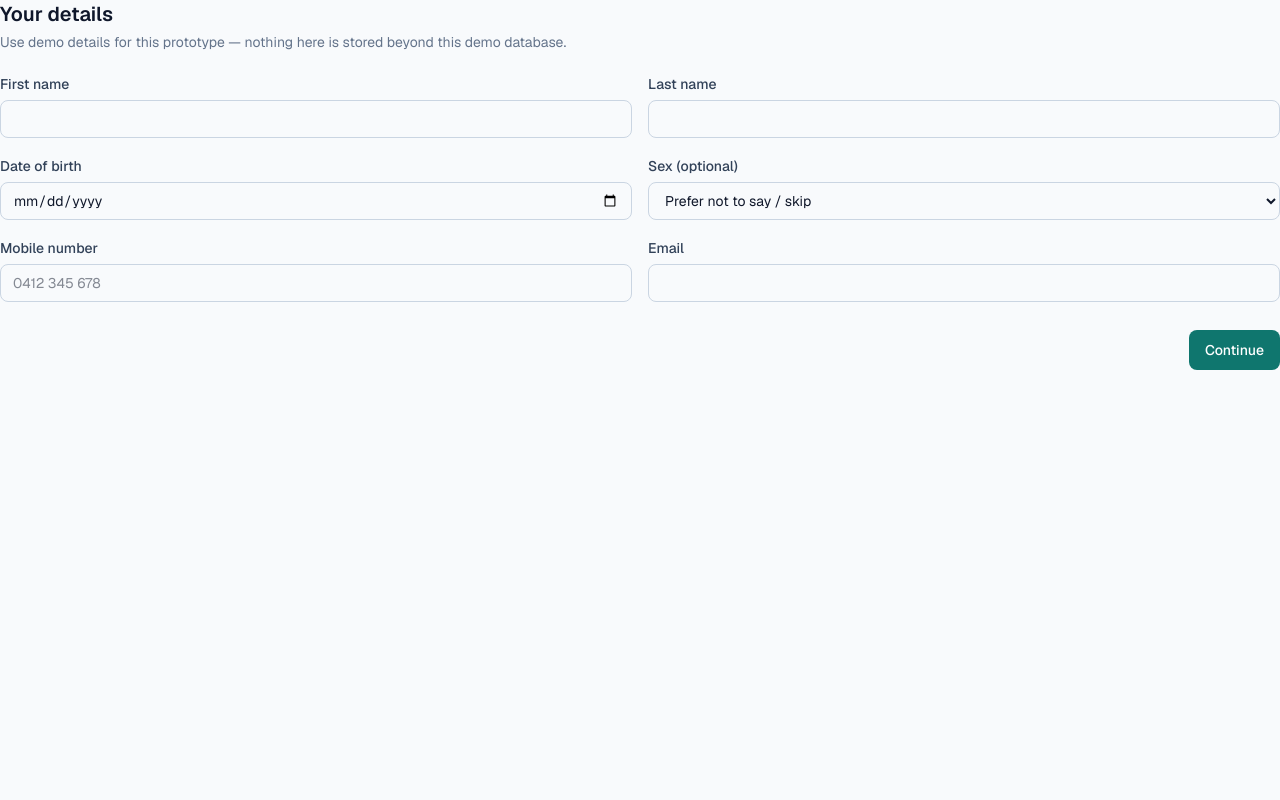
it: validation prompt › closes on 'Show me', focusing the first missing field
Click the button "Continue": (1234, 350) [1189,330,1279,370]
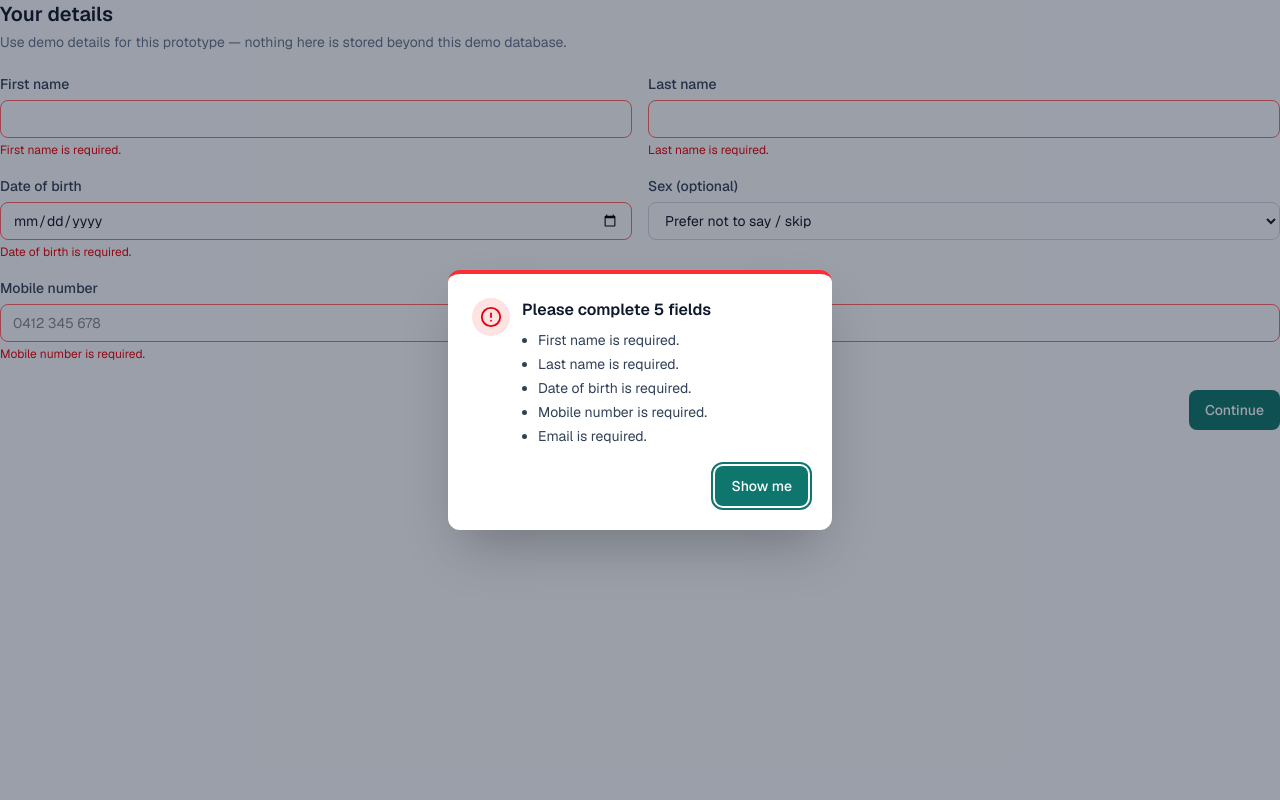
Click the button "Show me": (762, 486) [715,466,808,506]
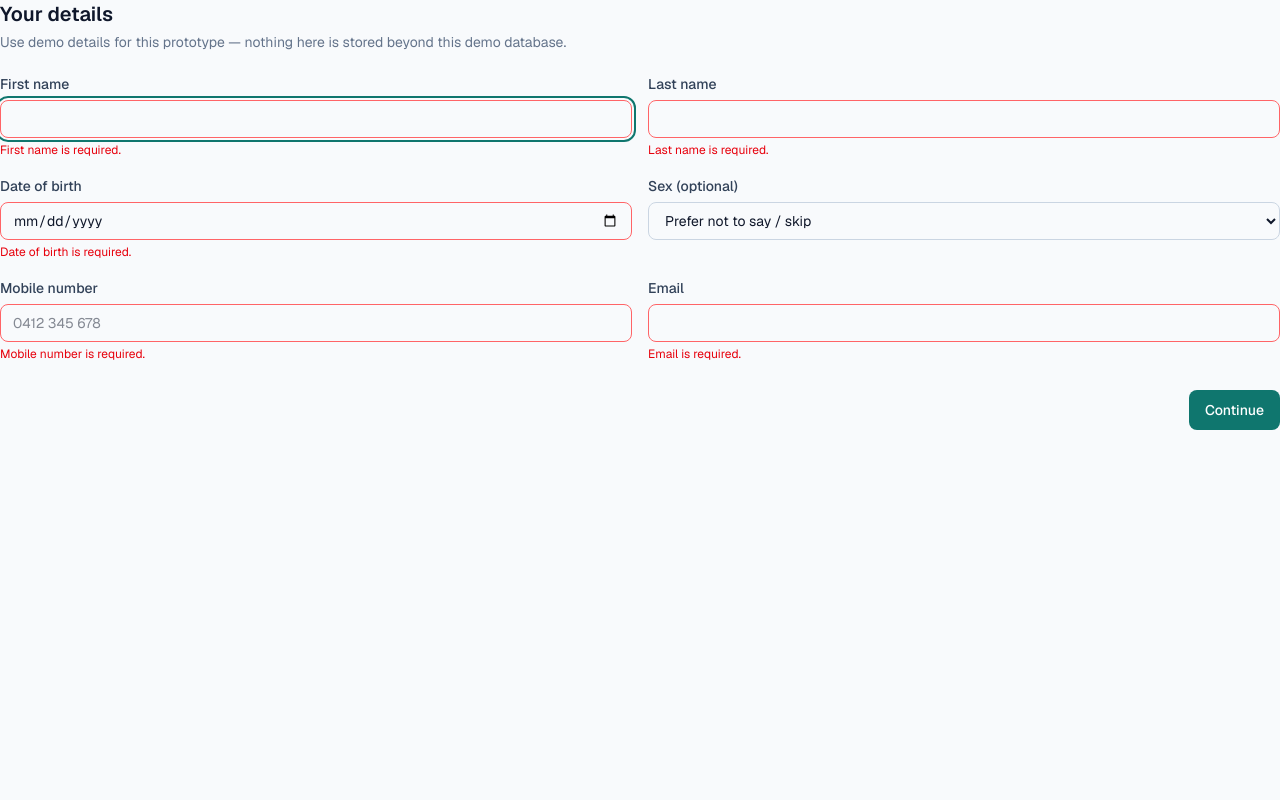
Check: the dialog is gone
